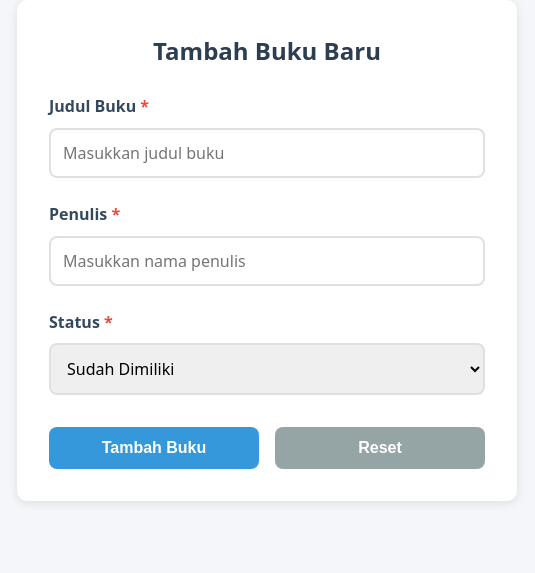
BookForm Component › should show validation errors for empty fields
Klik submit tanpa mengisi form
Step 1. Click the button "Tambah Buku" → (154, 448), box [49, 427, 259, 469]
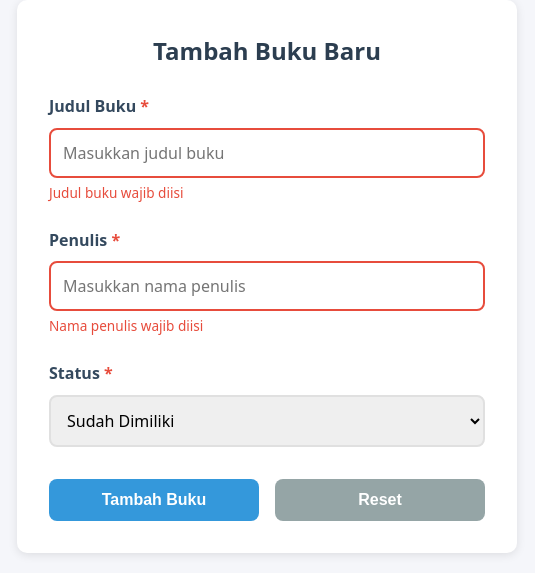
Expected: the text "Judul buku wajib diisi" is shown, [49, 183, 184, 202]
Expected: the text "Nama penulis wajib diisi" is shown, [49, 316, 203, 335]
